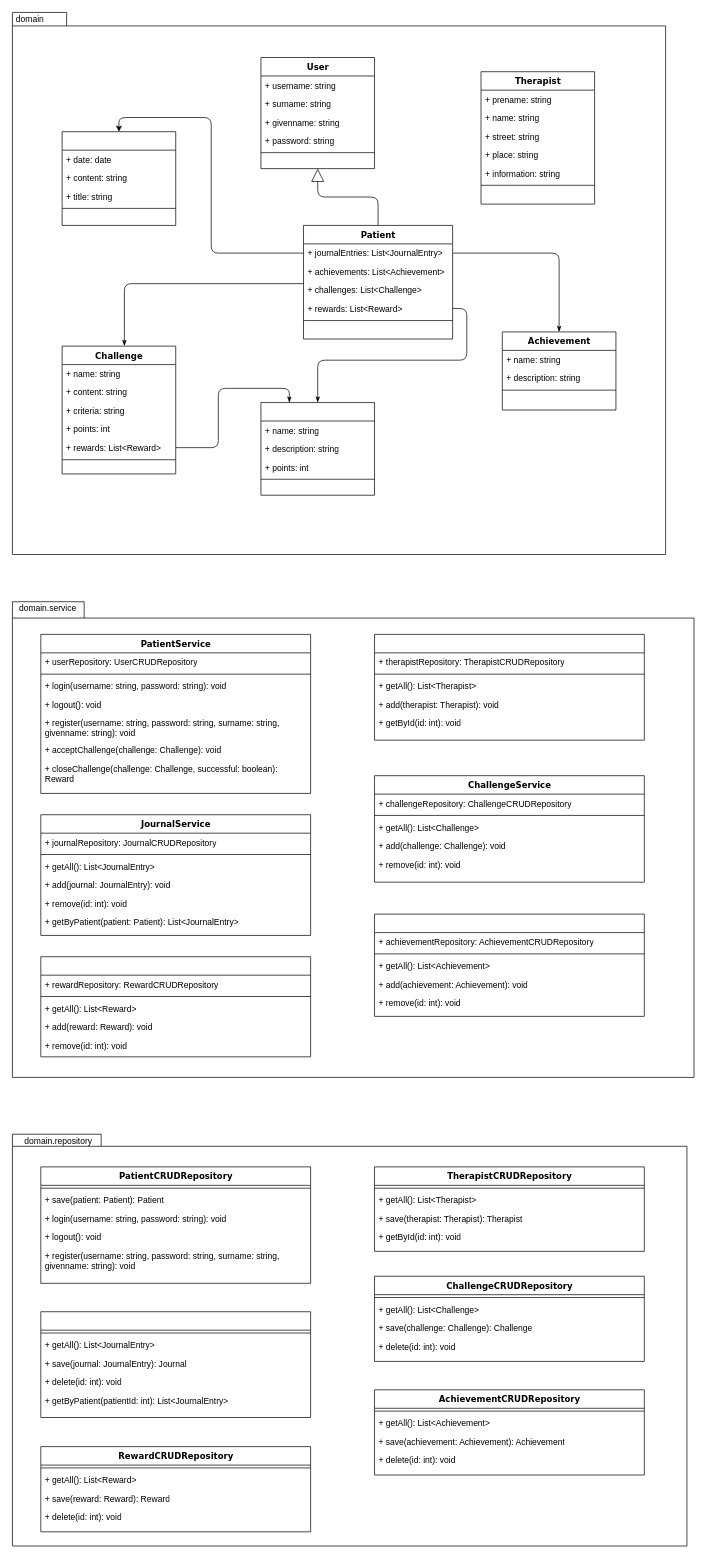
This 706x1558 diagram has some shape labels left out. The shapes that lost their labels are listed below. From the top down, each one's box as (x1, y1, x2, y2) in pixels, then its label:
(61, 131, 176, 225): JournalEntry
(260, 402, 375, 495): Reward
(374, 634, 644, 740): TherapistService
(374, 913, 644, 1016): AchievementService
(40, 956, 311, 1057): RewardService
(40, 1311, 311, 1418): JournalCRUDRepository
